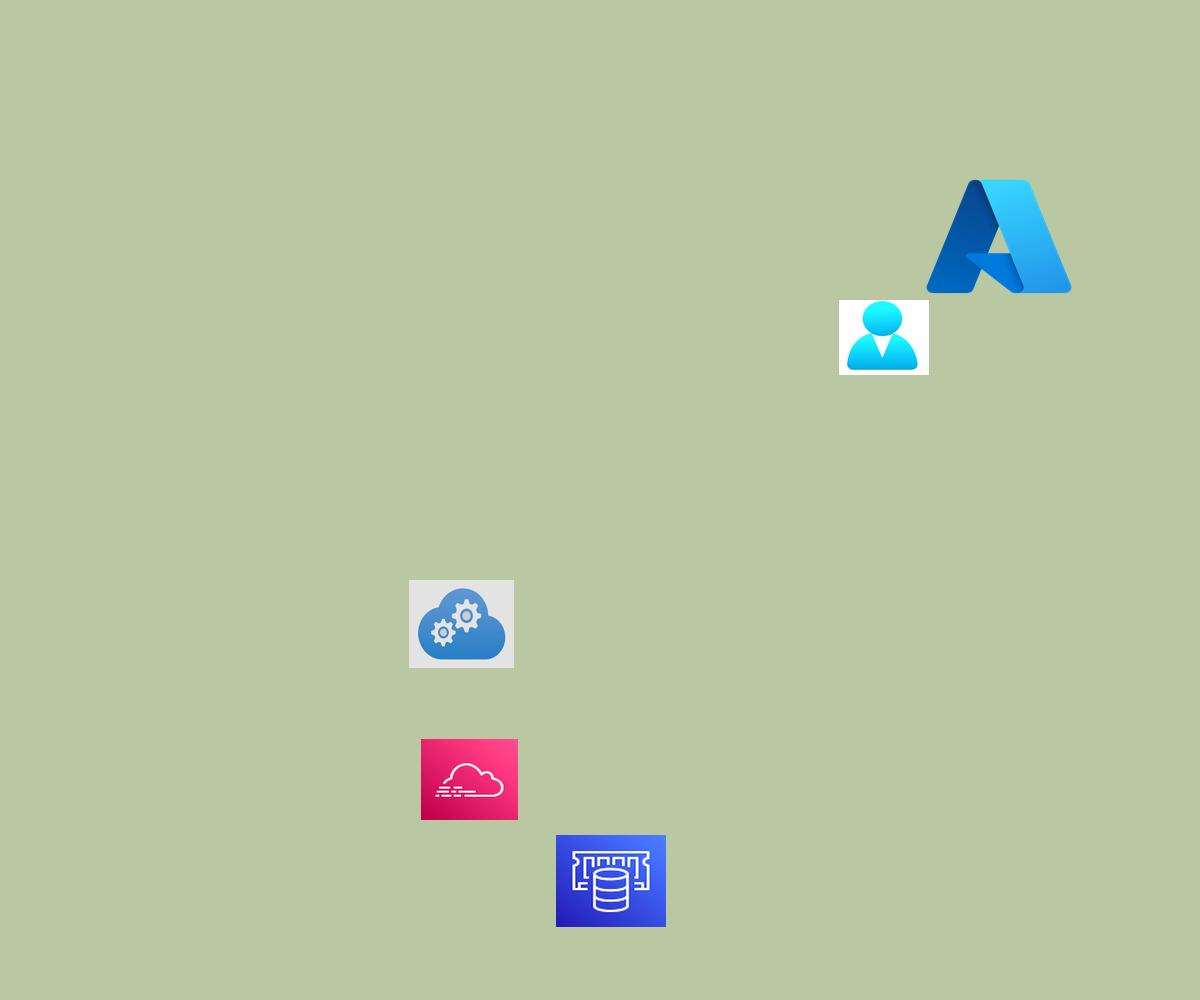AWS-CloudTrail: (421, 739, 518, 820)
AWS-ElastiCache: (556, 835, 666, 927)
Azure_cloud_services: (409, 580, 514, 668)
Azure_services: (920, 171, 1078, 302)
Azure_users: (839, 300, 929, 375)
